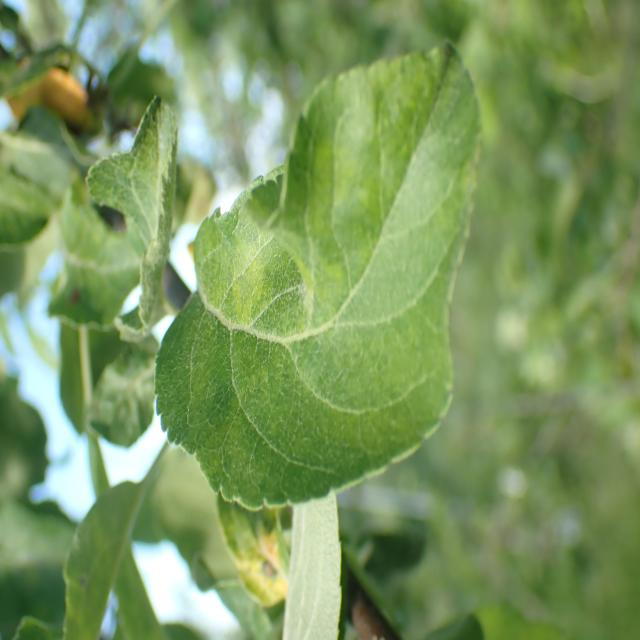scab: (138, 182, 438, 389)
